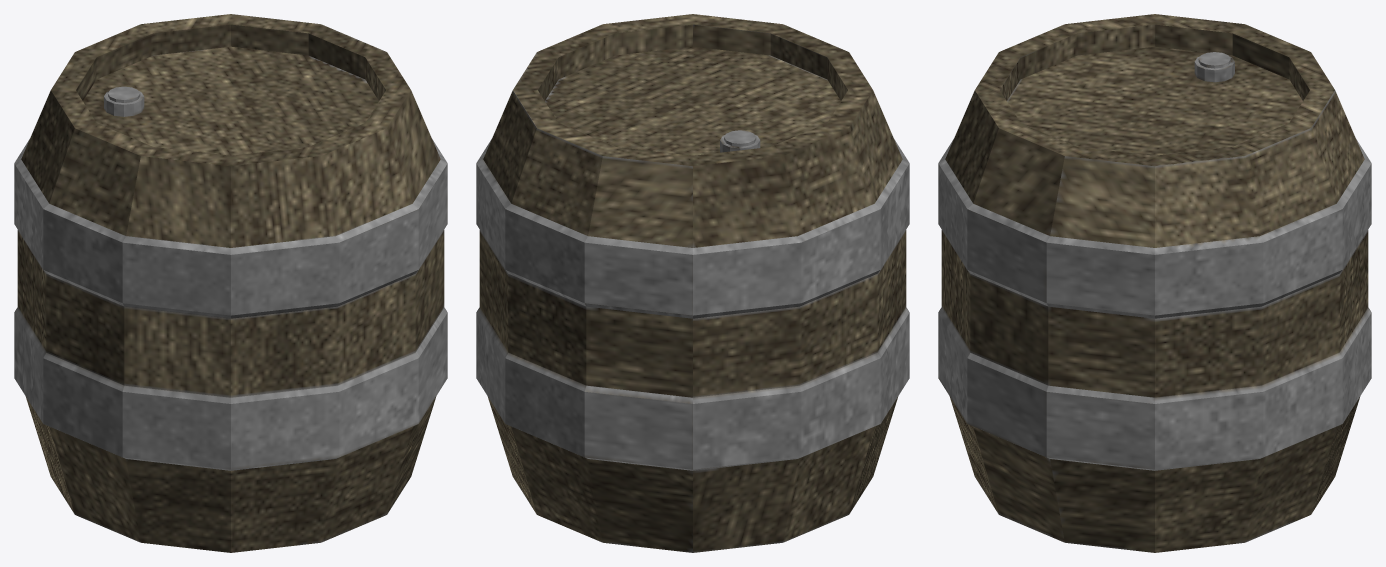
File: NormalBarrel.fbx
3 renders of one model, left to right at view 1: azimuth 30°, elevation 25°; view 2: azimuth 150°, elevation 25°; view 3: azimuth 270°, elevation 25°, orthographic.
Visible parts, largest first — view 1: Barrel; view 2: Barrel; view 3: Barrel.
Boxes of the visible parts, x1=… form: Barrel: x1=14, y1=14, x2=447, y2=552; Barrel: x1=476, y1=14, x2=909, y2=552; Barrel: x1=938, y1=14, x2=1371, y2=552.
Bounding box in the file's own units: 1.33 × 1.31 × 1.33.
1 material, 1 textured.
